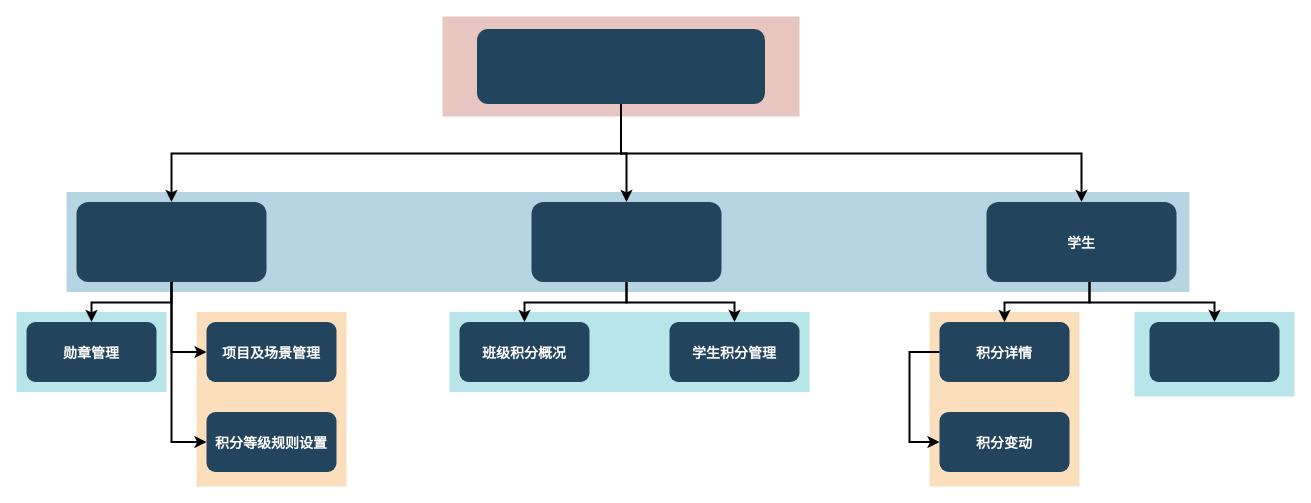
Some shapes in this 1311 by 503 pixel diagram are drawn without their labels. The shapes that lost their labels are listed below. From the top down, each one's box as (x1, y1, x2, y2) in pixels, then its label:
(476, 28, 764, 104): 积分管理系统
(76, 202, 266, 282): 管理员
(531, 202, 721, 282): 教师
(1149, 322, 1279, 382): 勋章详情
